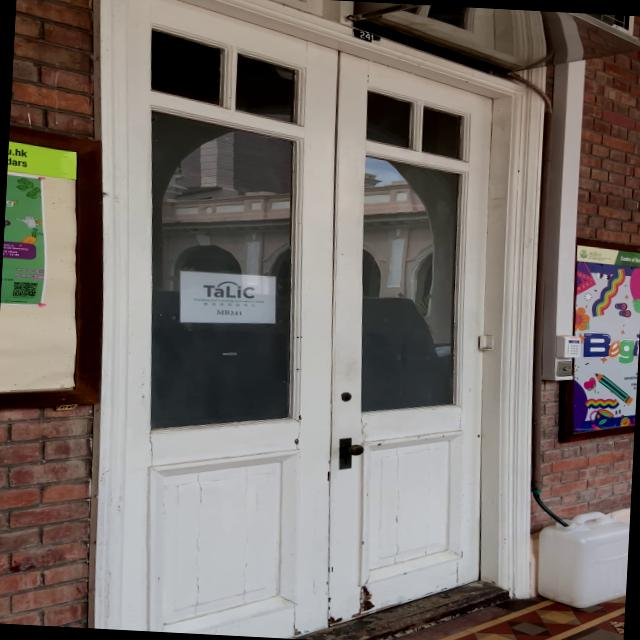room241: (350, 26, 382, 46)
